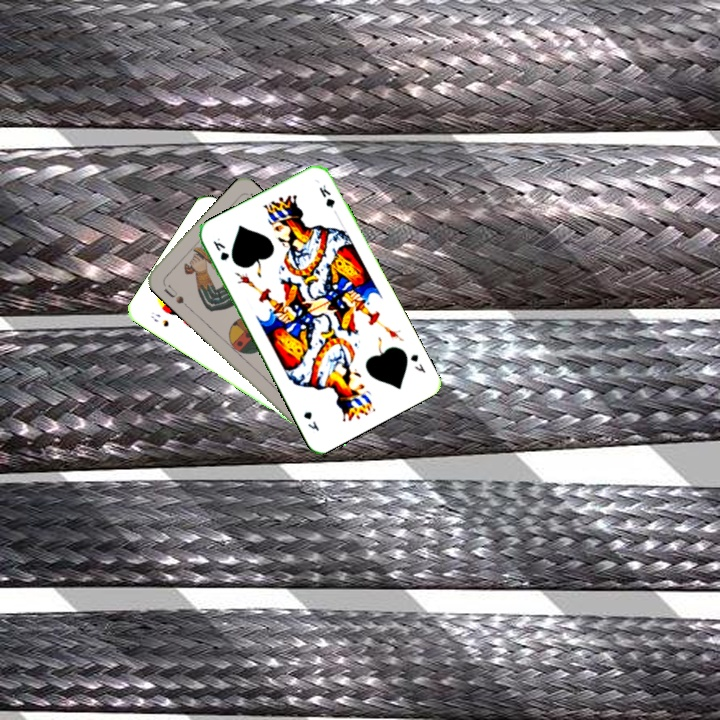GK: (209, 234, 232, 263), (406, 350, 428, 376)
S8: (147, 308, 171, 329)
SU: (160, 281, 187, 306)
